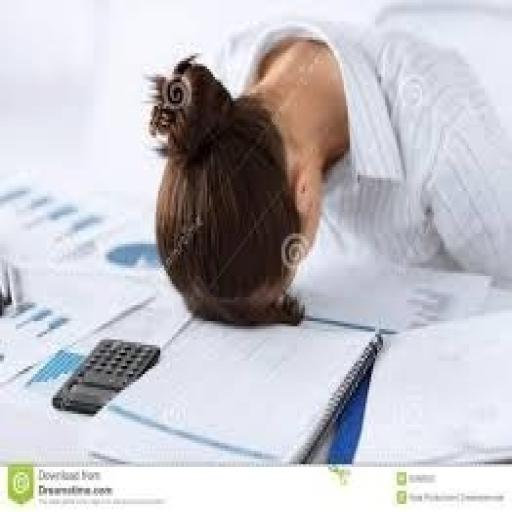sleeping: (143, 13, 510, 329)
